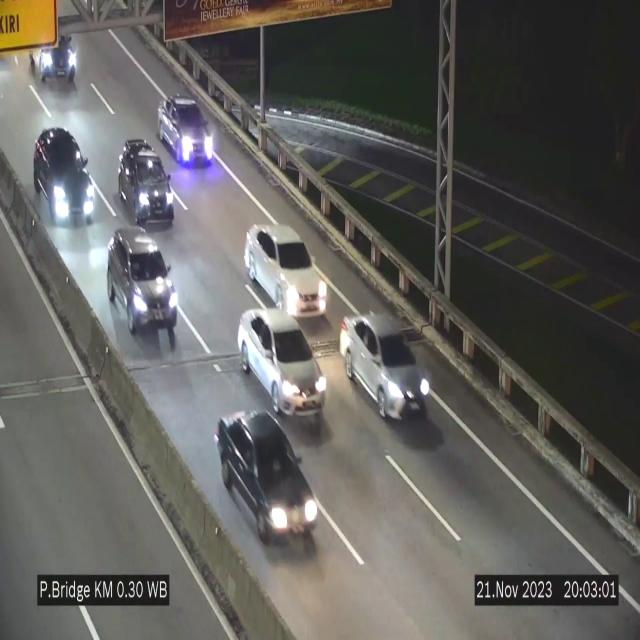Car: (220, 407, 320, 550), (337, 315, 430, 419), (239, 309, 326, 415), (103, 228, 177, 337), (244, 224, 325, 316), (31, 125, 96, 229), (118, 138, 174, 226), (157, 90, 215, 171), (25, 22, 85, 84)
